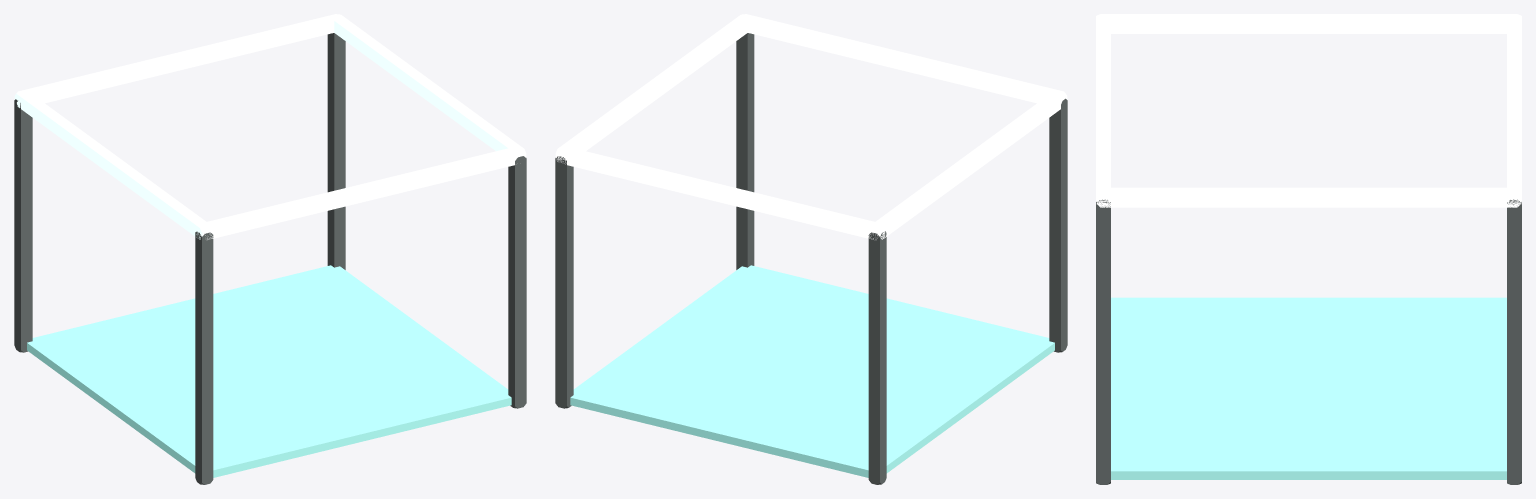
The model's file is permission-boundary.glb.
The picture shows the model from 3 angles, left to right: view 1: azimuth 30°, elevation 25°; view 2: azimuth 150°, elevation 25°; view 3: azimuth 270°, elevation 25°; orthographic projection. The views are drawn at different scales.
Parts seen in each view (by area): view 1: Boundary_Field, Boundary_Top_2, Boundary_Top_1, Boundary_Post_3, Boundary_Post_4, Boundary_Post_1, Boundary_Top_3, Boundary_Top_4, Boundary_Post_2; view 2: Boundary_Field, Boundary_Top_1, Boundary_Top_2, Boundary_Post_1, Boundary_Post_2, Boundary_Post_3, Boundary_Top_3, Boundary_Top_4, Boundary_Post_4; view 3: Boundary_Field, Boundary_Top_4, Boundary_Top_3, Boundary_Post_2, Boundary_Post_4, Boundary_Top_1, Boundary_Top_2.
Boxes of the visible parts, box(x1,y1,x2,y2) form: Boundary_Field: box(27, 265, 511, 477); Boundary_Top_2: box(198, 146, 525, 239); Boundary_Top_1: box(16, 14, 342, 103); Boundary_Post_3: box(195, 231, 213, 484); Boundary_Post_4: box(508, 156, 526, 408); Boundary_Post_1: box(14, 99, 32, 352); Boundary_Top_3: box(14, 91, 210, 239); Boundary_Top_4: box(330, 14, 526, 157); Boundary_Post_2: box(327, 33, 345, 269); Boundary_Field: box(570, 265, 1054, 477); Boundary_Top_1: box(556, 146, 883, 239); Boundary_Top_2: box(739, 14, 1065, 103); Boundary_Post_1: box(868, 231, 886, 484); Boundary_Post_2: box(555, 156, 573, 408); Boundary_Post_3: box(1049, 98, 1067, 352); Boundary_Top_3: box(870, 91, 1067, 239); Boundary_Top_4: box(555, 14, 751, 157); Boundary_Post_4: box(736, 33, 754, 269); Boundary_Field: box(1111, 297, 1506, 479); Boundary_Top_4: box(1096, 187, 1521, 207); Boundary_Top_3: box(1096, 14, 1520, 33); Boundary_Post_2: box(1507, 199, 1521, 484); Boundary_Post_4: box(1096, 199, 1110, 484); Boundary_Top_1: box(1507, 14, 1521, 201); Boundary_Top_2: box(1096, 14, 1110, 201).
Bounding box in the file's own units: 1.55 × 1.17 × 1.55.
